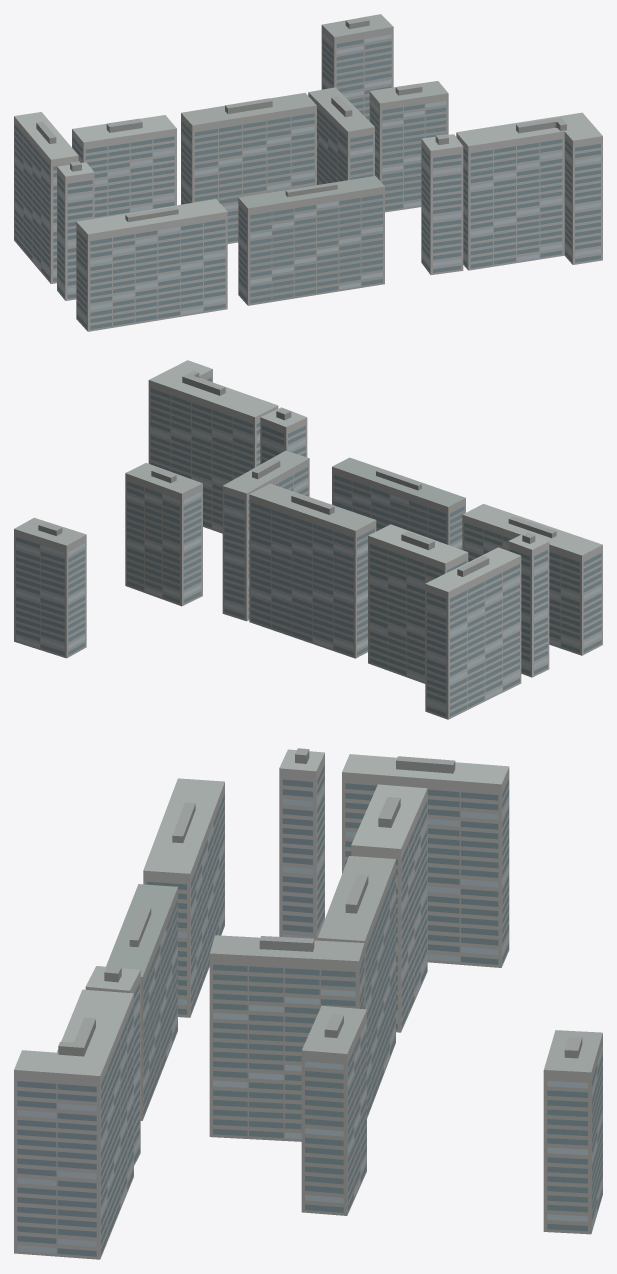
File: apt-a15807210.glb
3 views of the same model, one above another, from view 1: azimuth 30°, elevation 25°; view 2: azimuth 150°, elevation 25°; view 3: azimuth 270°, elevation 25° (orthographic). The views are drawn at different scales.
Visible parts, largest first — view 1: apt-a15807210; view 2: apt-a15807210; view 3: apt-a15807210.
Boxes of the visible parts, x1,y1,x2,y2 form: apt-a15807210: [14, 14, 602, 331]; apt-a15807210: [14, 360, 602, 719]; apt-a15807210: [14, 748, 602, 1259].
Size of the model in its own units: 192 by 51 by 142.
